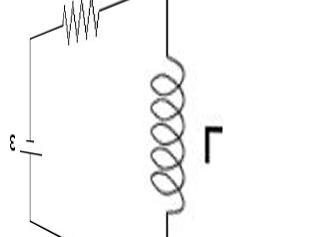inductor: (138, 48, 191, 224)
